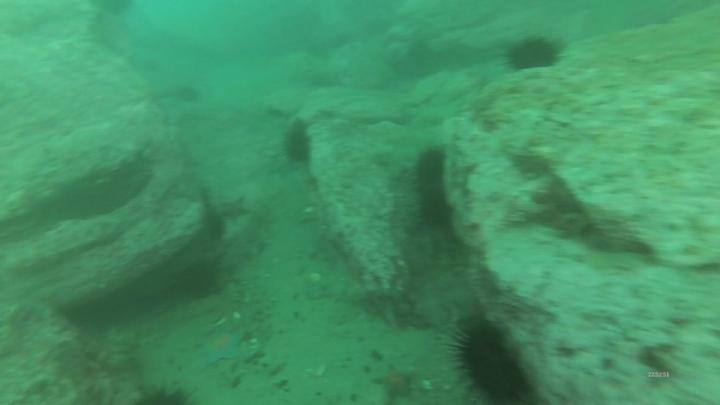echinus: (452, 320, 532, 399), (414, 151, 449, 227), (506, 38, 562, 69), (282, 118, 319, 162), (180, 265, 219, 294)
starfish: (373, 362, 420, 405), (203, 331, 253, 360), (221, 195, 250, 224)
